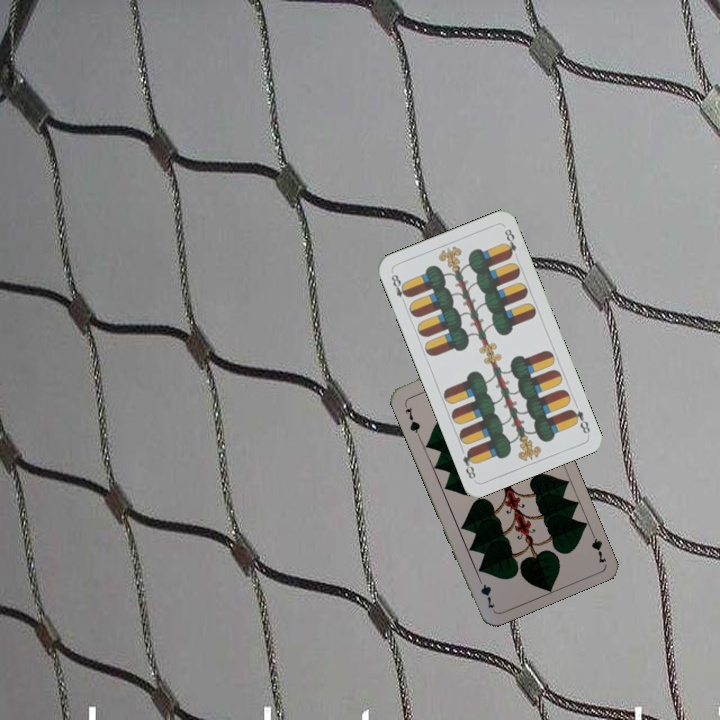E8: (387, 270, 412, 307), (566, 405, 593, 437)
G7: (586, 525, 609, 566), (401, 403, 423, 438)
